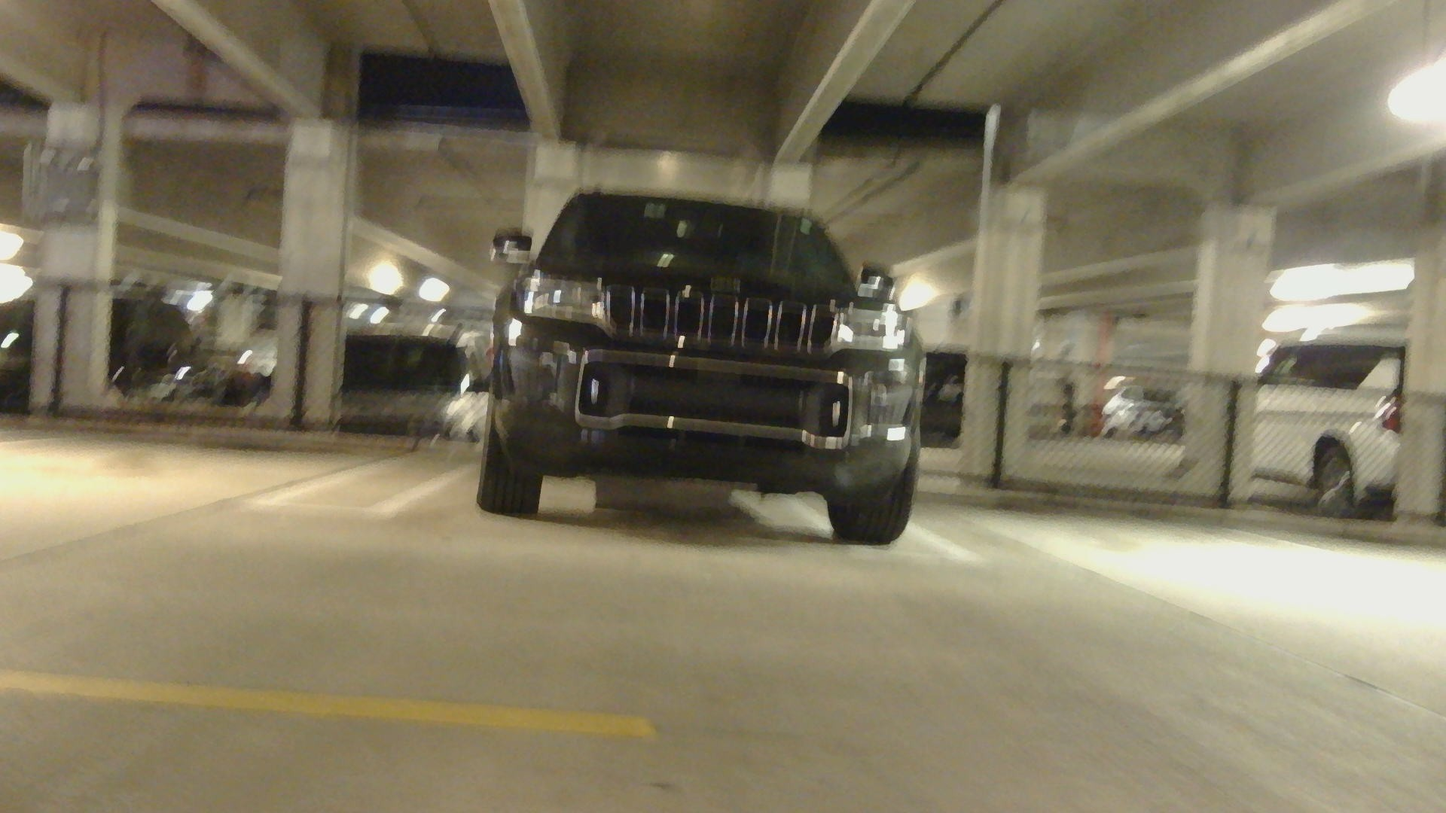empty_spot: (923, 405, 1446, 599), (0, 364, 454, 509)
occupied_spot: (462, 174, 945, 554)
